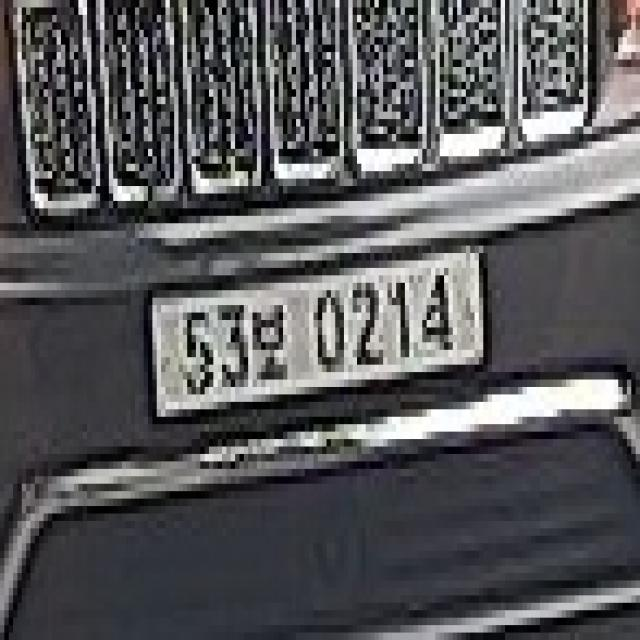0: (318, 283, 344, 387)
1: (383, 253, 427, 380)
2: (353, 268, 383, 379)
3: (213, 290, 248, 394)
4: (422, 253, 466, 365)
5: (178, 305, 218, 395)
bo: (248, 298, 292, 387)
license_plate: (144, 238, 492, 432)
